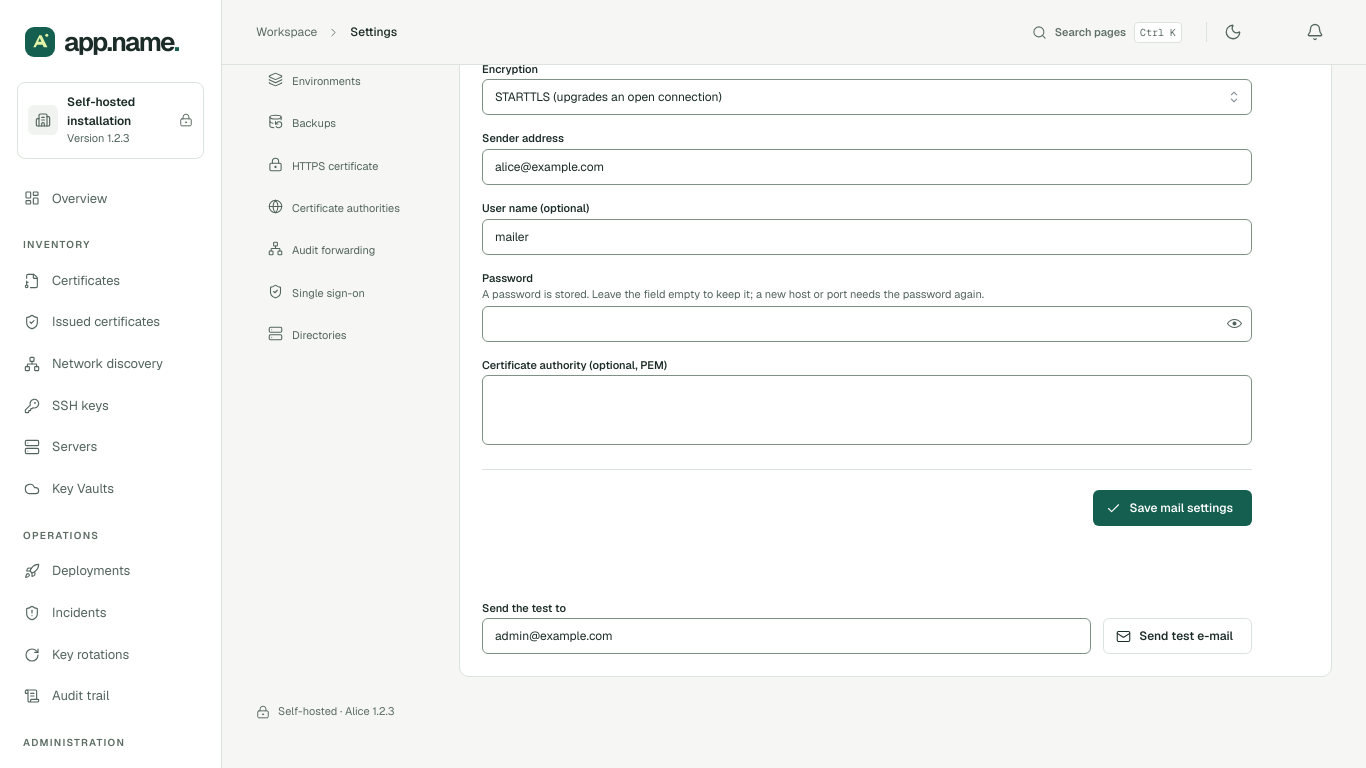
Test case: SettingsPage, mail › asks for the code when the step-up window ended before the test e-mail, then sends it
The image size is (1366, 768).
(page scrolled)
Click the button "Send test e-mail".
click(1178, 636)  # box [1103,618,1252,654]
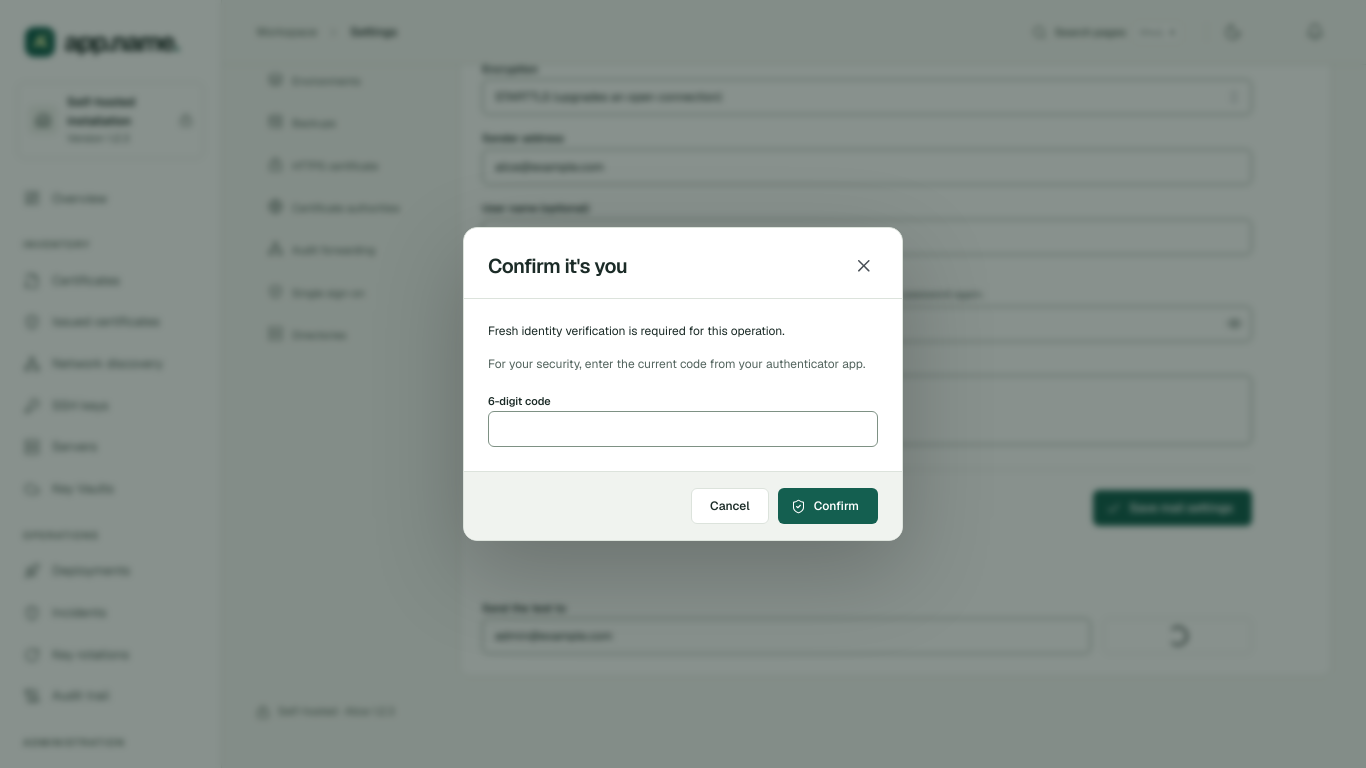
Check: the dialog "Confirm it's you" is shown, box [463,227,903,541]
Type "123456" into the field labelled "6-digit code".
click(683, 429); type("123456")  # box [488,411,878,447]
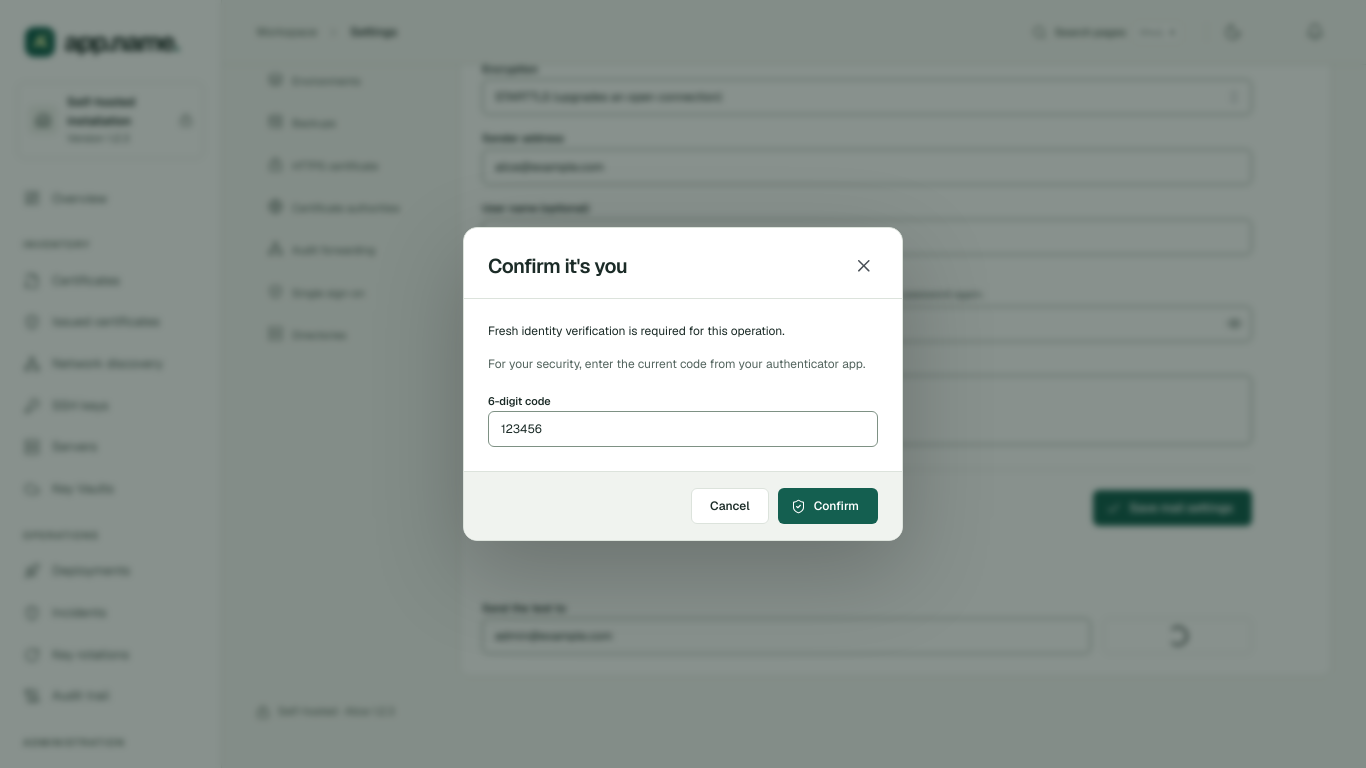
Click the button "Confirm".
click(828, 506)  # box [778,488,878,524]
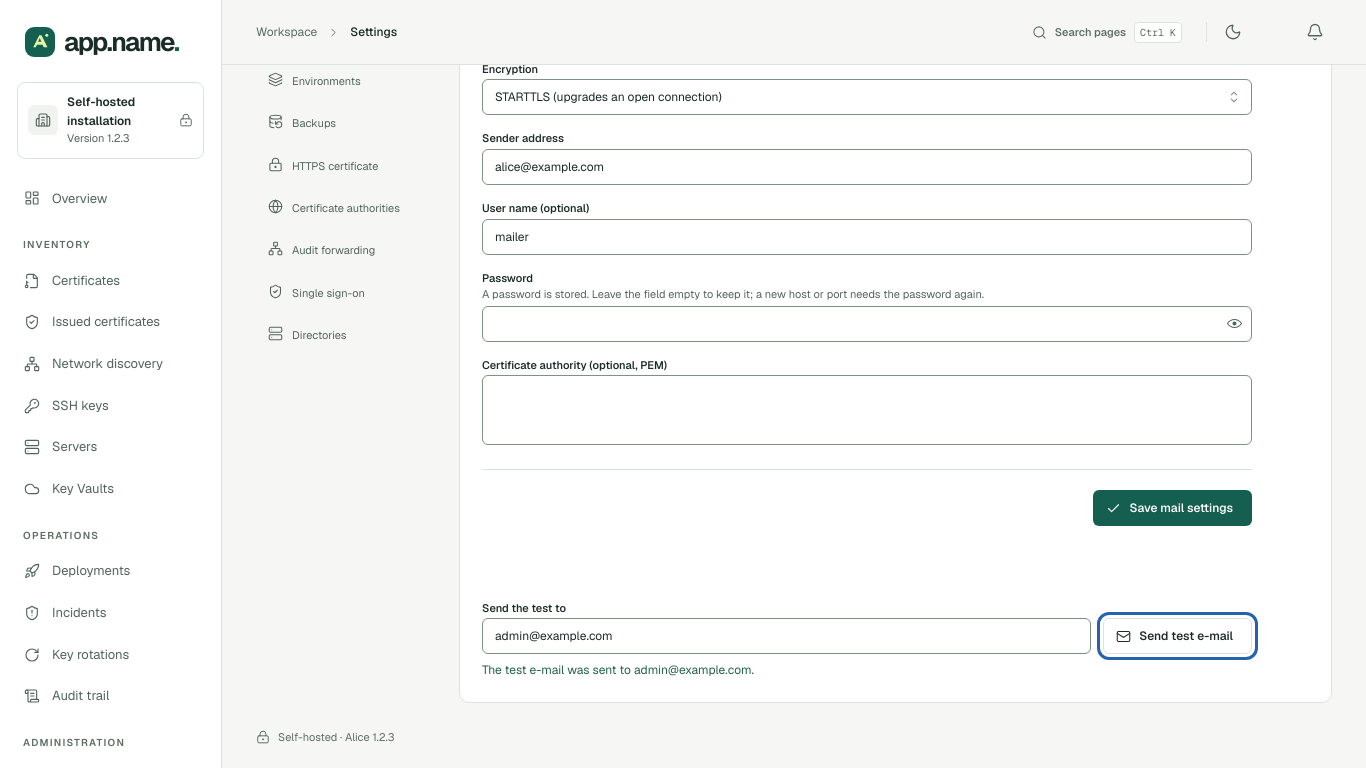
Check: the text "The test e-mail was sent to admin@example.com." is shown, box [482,662,754,678]
